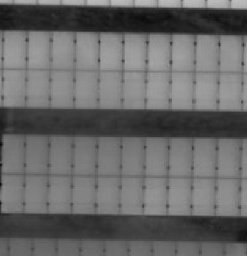solar: (48, 29, 78, 71), (25, 28, 54, 70), (74, 29, 103, 71), (97, 29, 126, 71), (121, 31, 150, 73), (145, 32, 174, 74), (169, 32, 198, 74), (194, 32, 223, 74), (218, 32, 247, 74), (216, 70, 245, 112), (192, 69, 221, 111), (169, 68, 198, 110), (143, 68, 172, 110), (120, 68, 149, 110), (97, 68, 126, 110), (71, 68, 100, 110), (47, 68, 76, 110), (23, 68, 52, 110), (46, 172, 75, 214), (1, 28, 29, 70), (24, 134, 52, 176), (48, 134, 76, 176), (72, 134, 100, 176), (94, 135, 122, 177), (118, 135, 146, 177), (143, 135, 171, 177), (167, 136, 195, 178), (191, 136, 219, 178), (216, 136, 244, 178), (21, 173, 49, 215), (70, 174, 98, 216), (94, 173, 122, 215), (143, 174, 171, 216), (165, 174, 193, 216), (119, 173, 147, 215), (189, 174, 217, 216), (215, 174, 243, 216), (1, 68, 28, 110), (1, 134, 28, 176), (1, 171, 28, 213)
